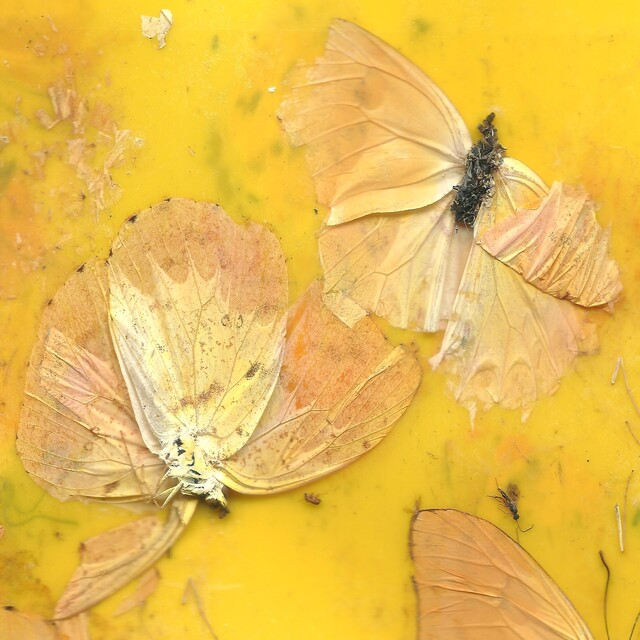Lepidoptera: (15, 198, 425, 620), (280, 20, 625, 412)
